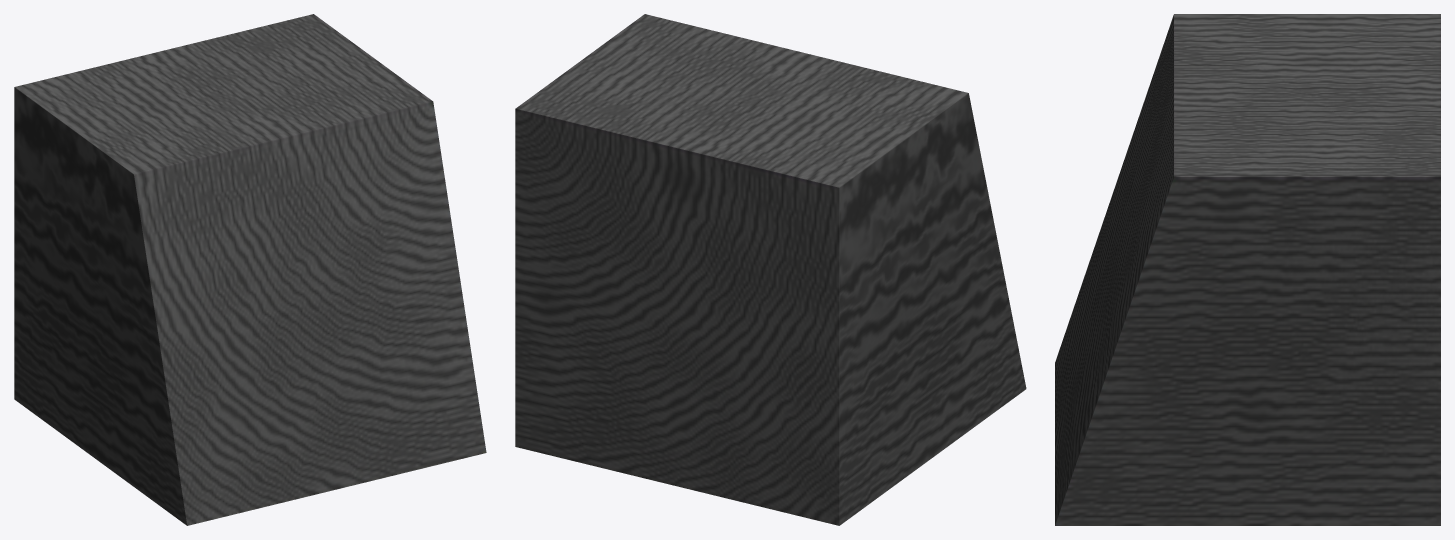
3 views of the same model, side by side, from view 1: azimuth 30°, elevation 25°; view 2: azimuth 150°, elevation 25°; view 3: azimuth 270°, elevation 25° (orthographic). The views are drawn at different scales.
Visible parts, largest first — view 1: 3; view 2: 3; view 3: 3.
Boxes of the visible parts, x1,y1,x2,y2 form: 3: [14, 14, 486, 525]; 3: [515, 14, 1026, 525]; 3: [1055, 14, 1440, 525].
Bounding box in the file's own units: 2 × 1.99 × 2.
1 material, 1 textured.
